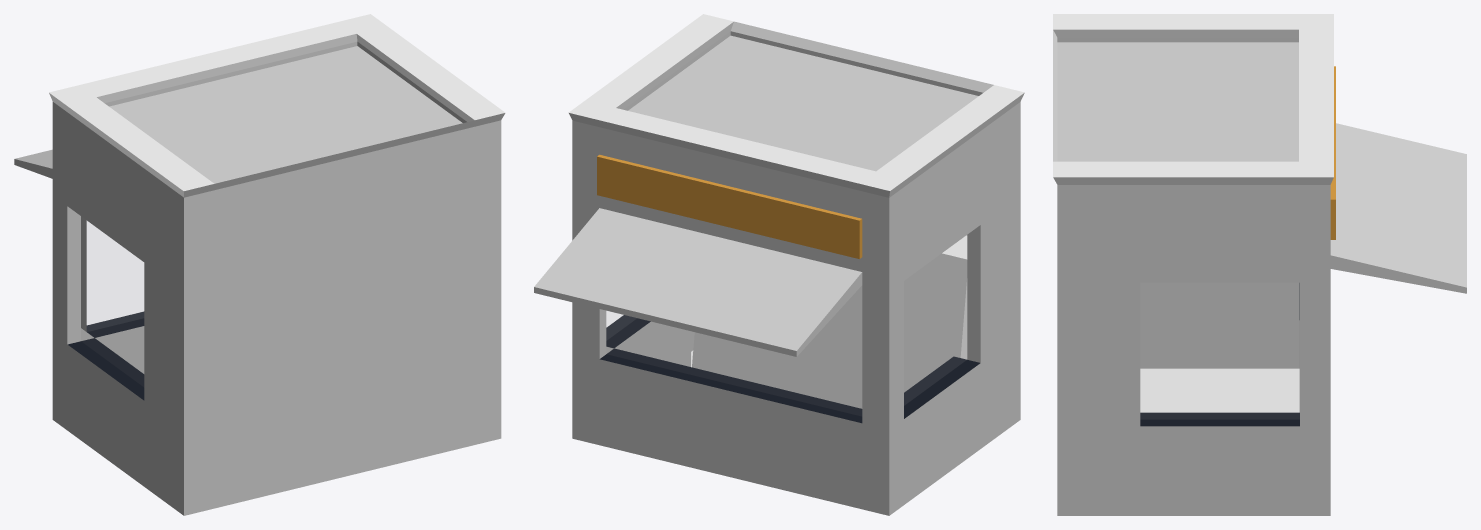
File: commisary.gltf
The picture shows the model from 3 angles, left to right: view 1: azimuth 30°, elevation 25°; view 2: azimuth 150°, elevation 25°; view 3: azimuth 270°, elevation 25°; orthographic projection. The views are drawn at different scales.
Visible parts, largest first — view 1: Commisary; view 2: Commisary; view 3: Commisary.
Boxes of the visible parts, box(x1,y1,x2,y2) form: Commisary: box(14, 14, 505, 515); Commisary: box(534, 14, 1024, 515); Commisary: box(1053, 14, 1466, 515).
Bounding box in the file's own units: 9.35 × 9.08 × 10.01.
